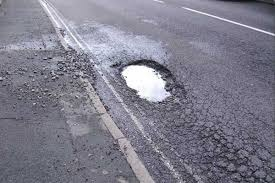pothole: (114, 57, 188, 106)
